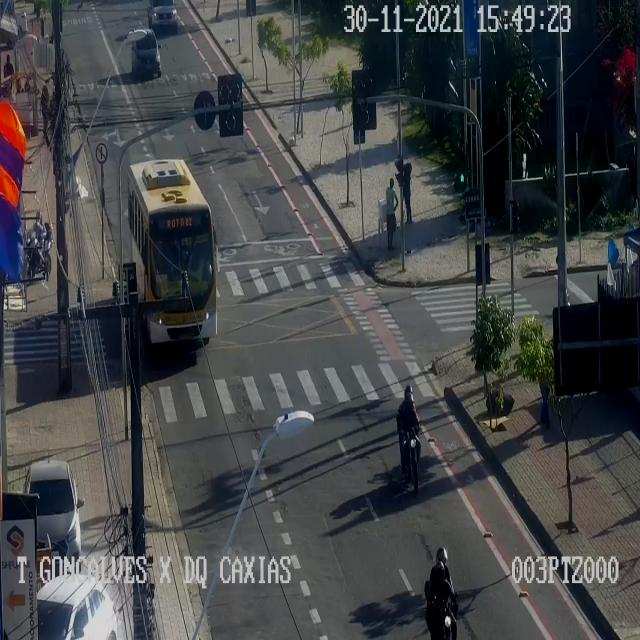Bus: (128, 158, 216, 342)
Car: (24, 460, 80, 570), (36, 573, 116, 639), (131, 28, 161, 76), (146, 0, 181, 38)
Motorcycle: (424, 548, 458, 639), (396, 385, 420, 495), (24, 211, 51, 285)
